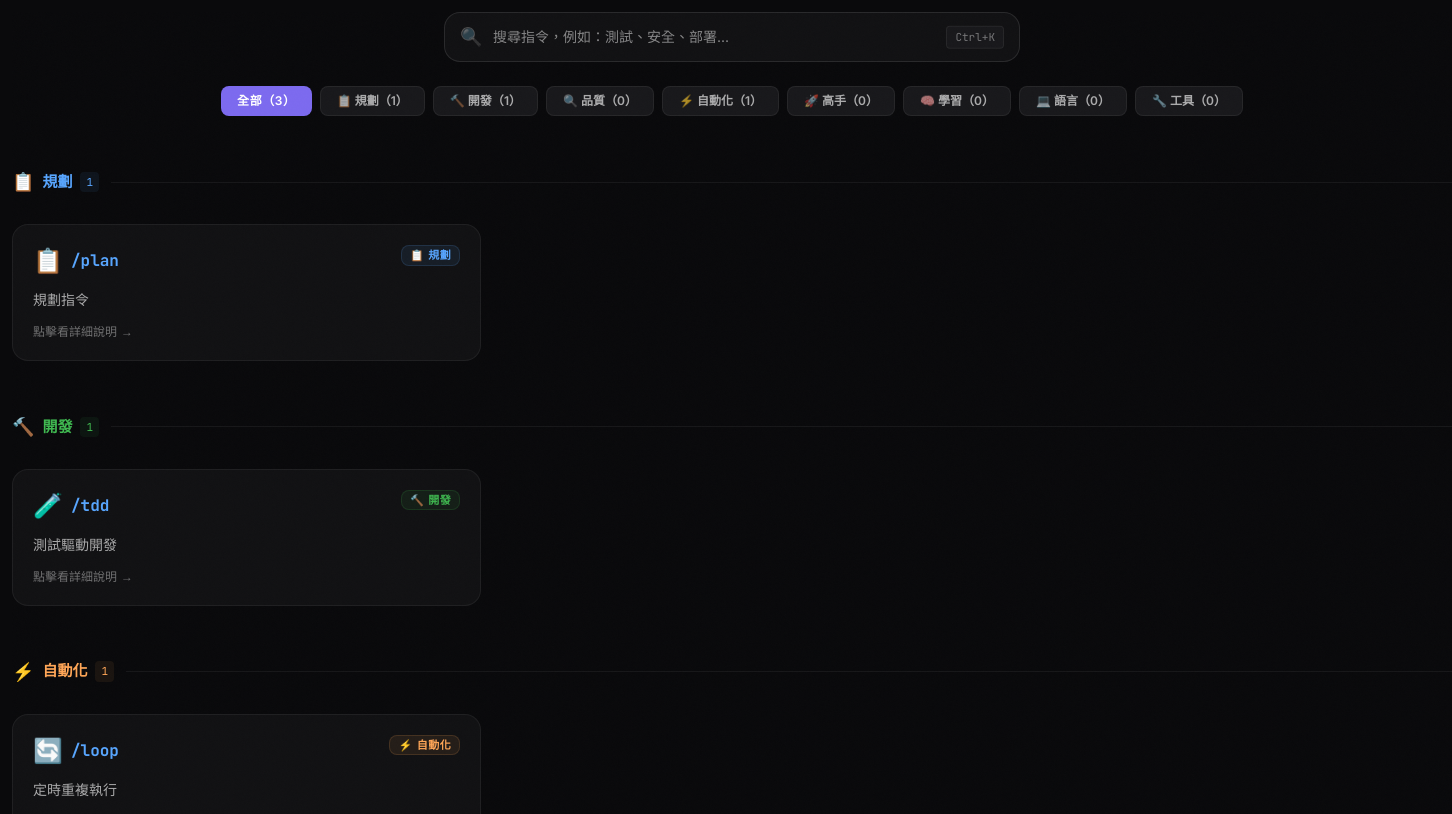
Test: SearchFilter › filters commands by search query (name match)
Type "tdd" into the search field with placeholder "搜尋指令，例如：測試、安全、部署...".
click(732, 37); type("tdd")  # box [444, 12, 1020, 62]
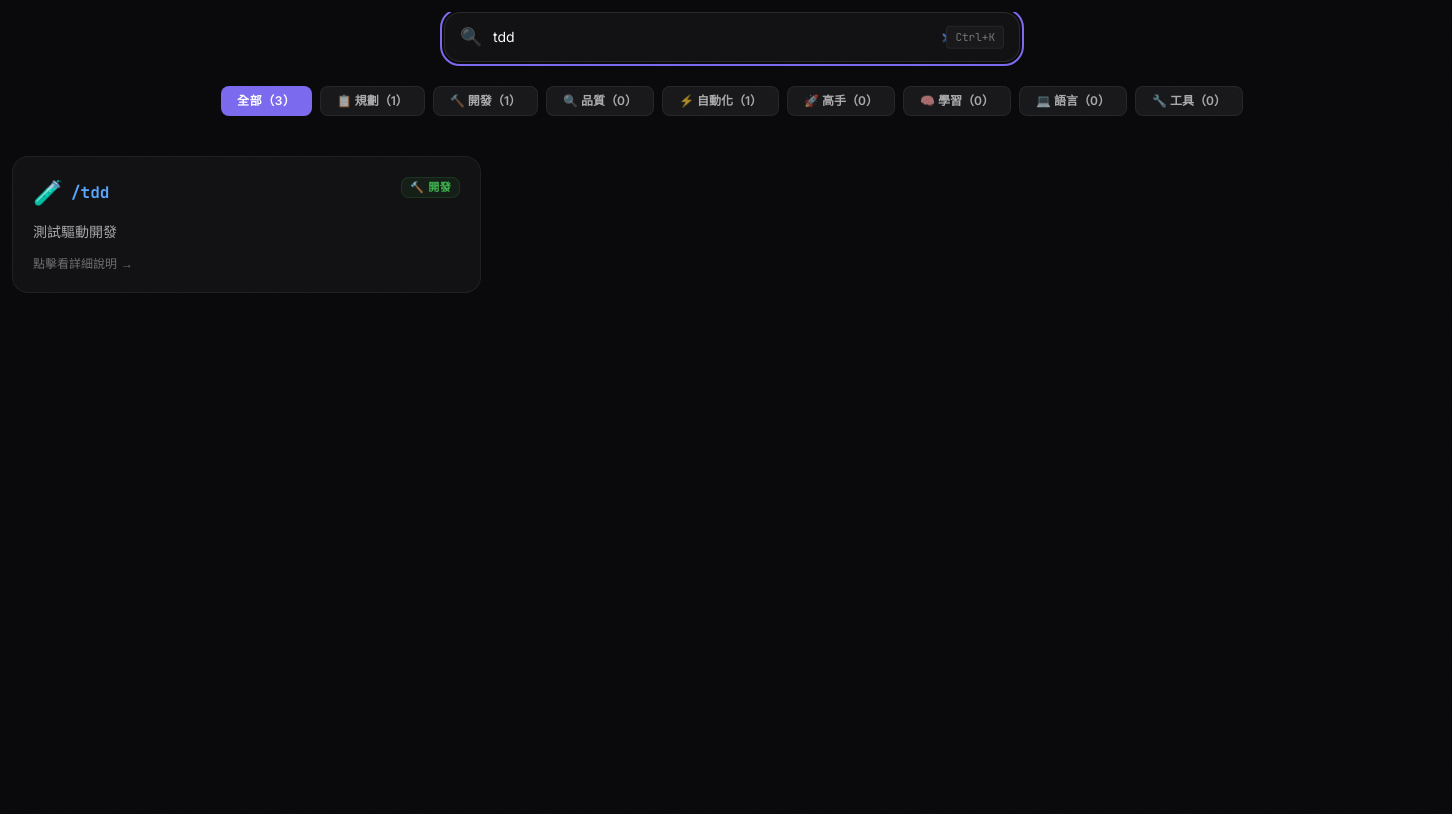
Expected: the text "/tdd" is shown, [71, 181, 109, 205]
Expected: the link "/plan" is gone
Expected: the link "/loop" is gone
